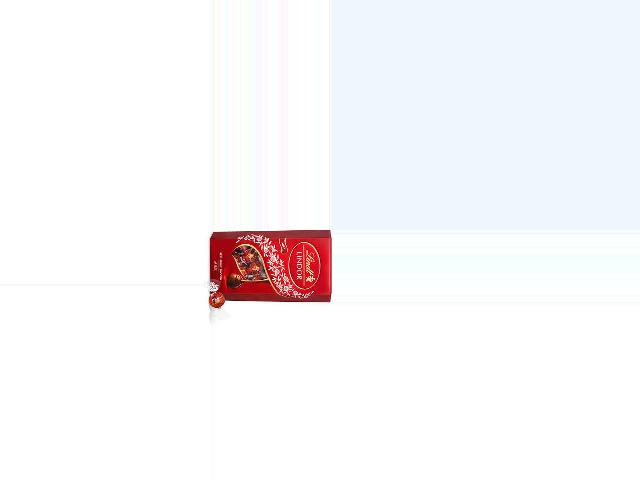chocolate: (210, 231, 331, 309)
